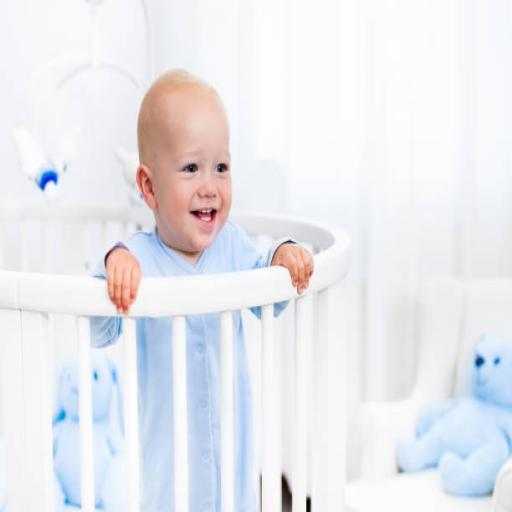baby: (97, 71, 312, 312)
crib: (120, 214, 349, 511)
